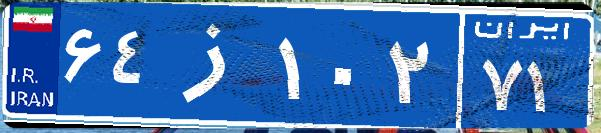0: (330, 28, 385, 110)
1: (273, 28, 330, 110), (525, 38, 570, 115)
2: (385, 28, 445, 110)
4: (110, 28, 158, 105)
6: (57, 26, 110, 107)
7: (475, 38, 525, 113)
ز: (158, 15, 273, 115)
